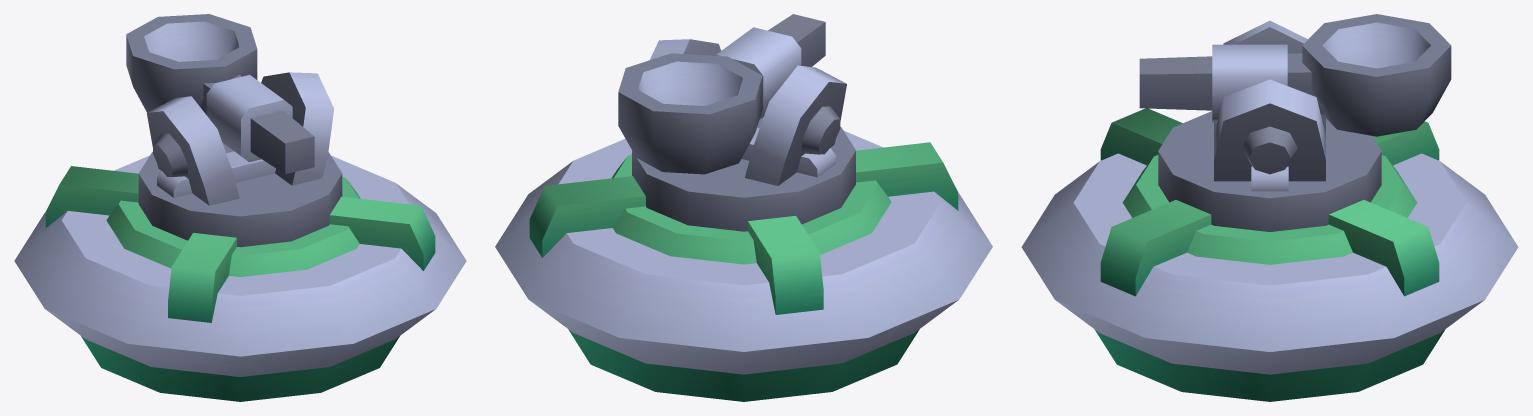
Rendered from kenney-tower-defense-enemy-ufo-b-weapon.glb.
3 views of the same model, side by side, from view 1: azimuth 30°, elevation 25°; view 2: azimuth 150°, elevation 25°; view 3: azimuth 270°, elevation 25° (orthographic). The views are drawn at different scales.
Visible parts, largest first — view 1: enemy-ufo-b-weapon, catapult; view 2: enemy-ufo-b-weapon, catapult; view 3: enemy-ufo-b-weapon, catapult.
Part boxes in pixels (x1,y1,x2,y2): enemy-ufo-b-weapon: [14, 72, 466, 401]; catapult: [126, 14, 314, 174]; enemy-ufo-b-weapon: [495, 39, 992, 401]; catapult: [618, 14, 825, 174]; enemy-ufo-b-weapon: [1021, 20, 1518, 401]; catapult: [1139, 14, 1451, 136].
Bounding box in the file's own units: 0.9994 × 0.6256 × 1.
1 material, 1 textured.
